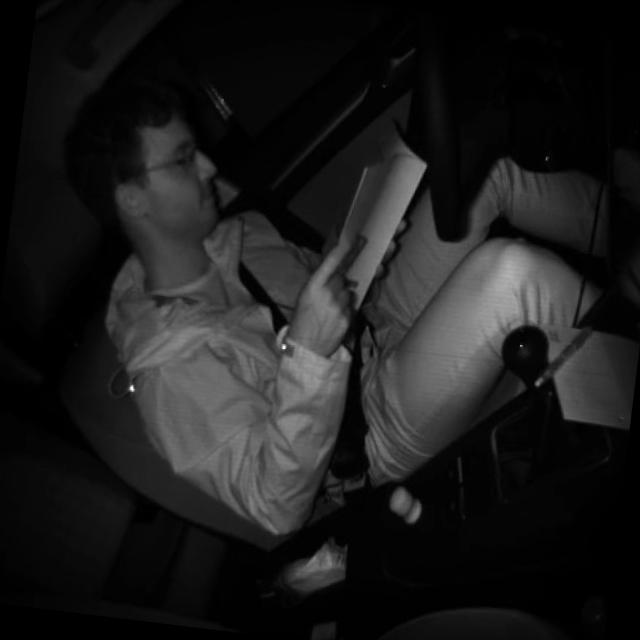pen: (528, 316, 596, 396)
